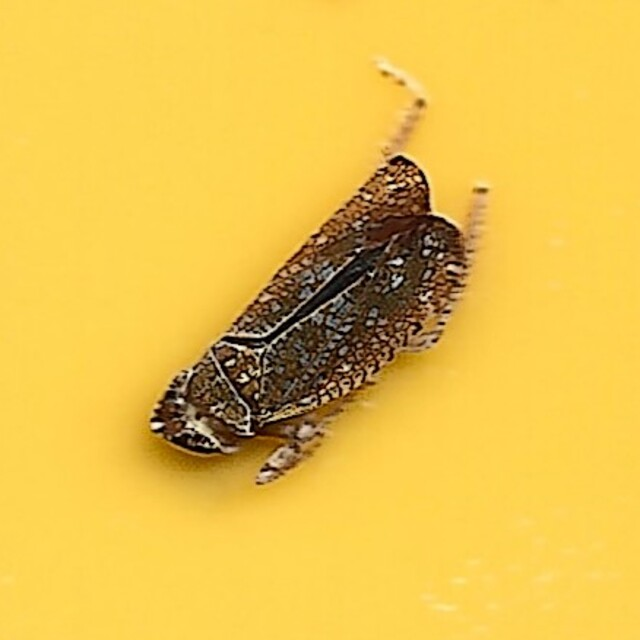Hemiptera: (146, 145, 494, 495)
